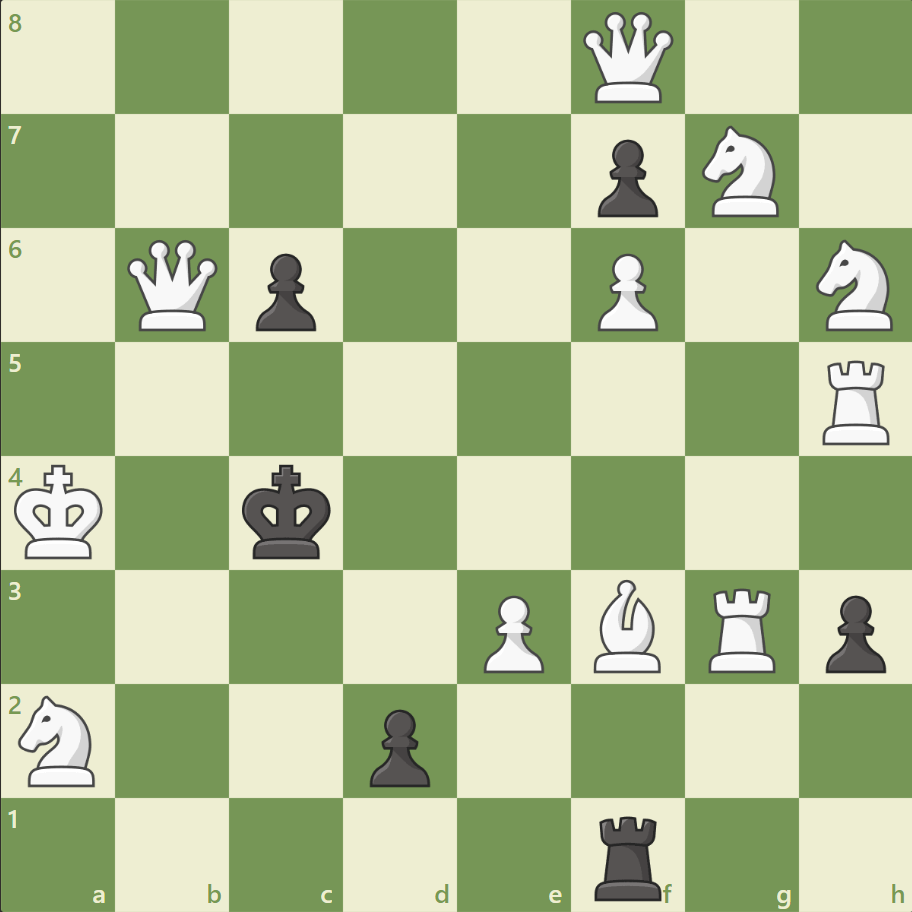B: (585, 574, 669, 676)
K: (11, 458, 111, 566)
N: (806, 234, 903, 337), (11, 688, 108, 791), (692, 121, 789, 223)
P: (474, 586, 549, 677), (588, 246, 662, 337)
Q: (578, 9, 677, 108), (124, 236, 223, 335)
R: (814, 352, 897, 449), (700, 579, 783, 676)
k: (238, 458, 338, 566)
p: (247, 246, 322, 337), (588, 132, 662, 223), (815, 586, 889, 677), (361, 700, 435, 791)
r: (587, 806, 670, 904)
